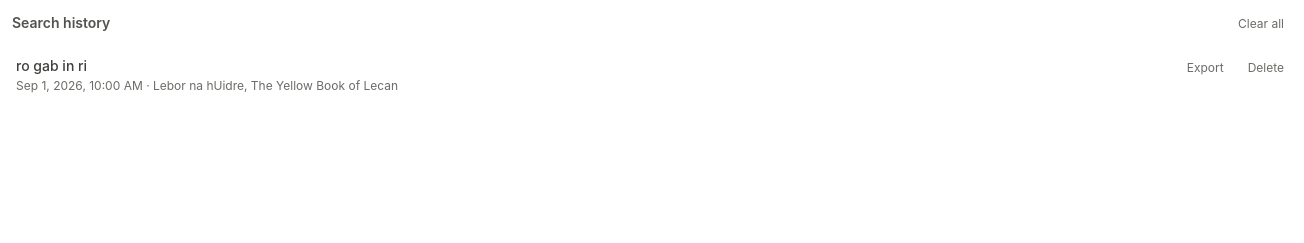
SearchHistorySection › hides the hits again when the entry is closed
Click the button "ro gab in ri": (52, 66) [12,44,1171,106]
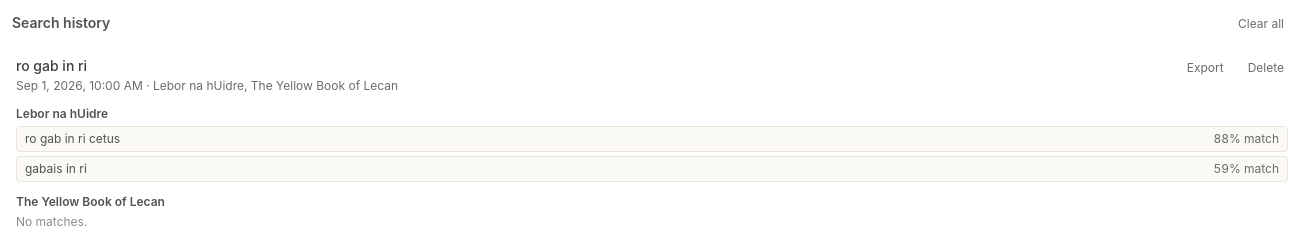
Click the button "ro gab in ri": (52, 66) [12,44,1171,106]
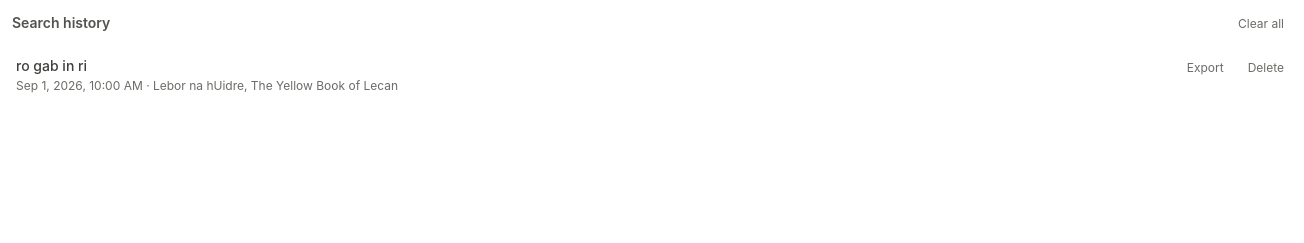
Check: the text "ro gab in ri cetus" is gone
